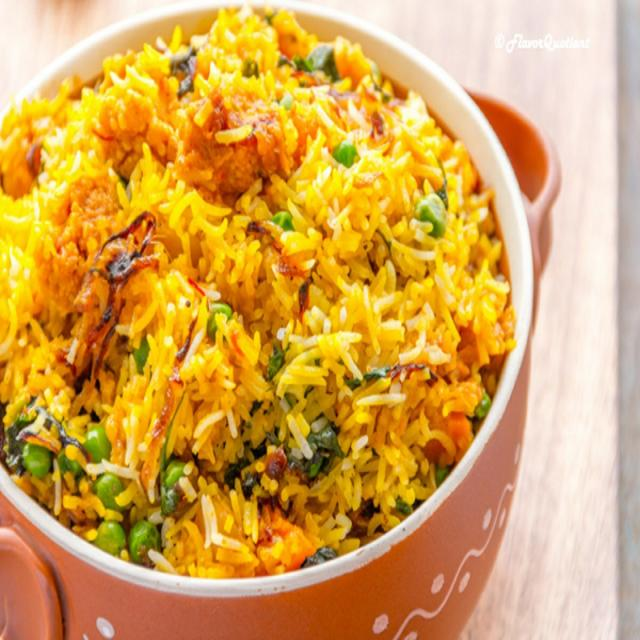Biryani: (0, 3, 518, 578)
